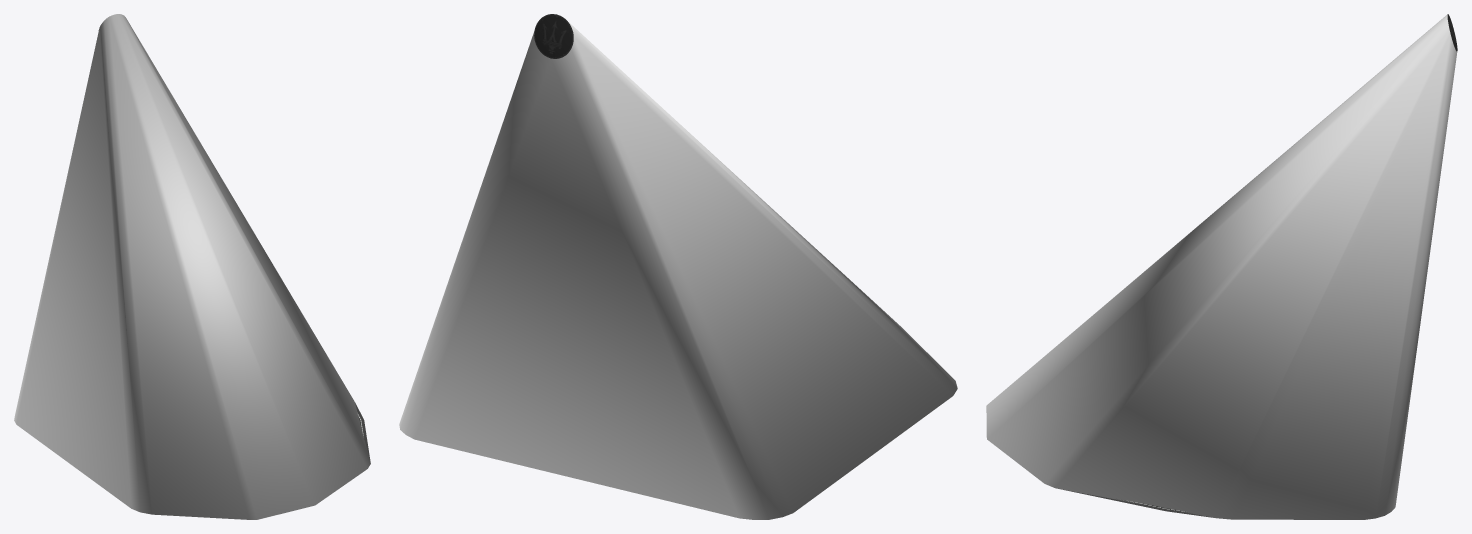
The picture shows the model from 3 angles, left to right: view 1: azimuth 30°, elevation 25°; view 2: azimuth 150°, elevation 25°; view 3: azimuth 270°, elevation 25°; orthographic projection. The views are drawn at different scales.
Visible parts, largest first — view 1: decal_eclipse_r_01_col; view 2: decal_eclipse_r_01_col, decal_eclipse_r_01; view 3: decal_eclipse_r_01_col.
Part boxes in pixels (left/top/right/bottom): decal_eclipse_r_01_col: left=14, top=14, right=370, bottom=519; decal_eclipse_r_01_col: left=399, top=22, right=957, bottom=519; decal_eclipse_r_01: left=534, top=14, right=573, bottom=58; decal_eclipse_r_01_col: left=986, top=14, right=1457, bottom=519.
Bounding box in the file's own units: 0.4971 × 0.5962 × 0.607.
4 materials, 3 textured.
